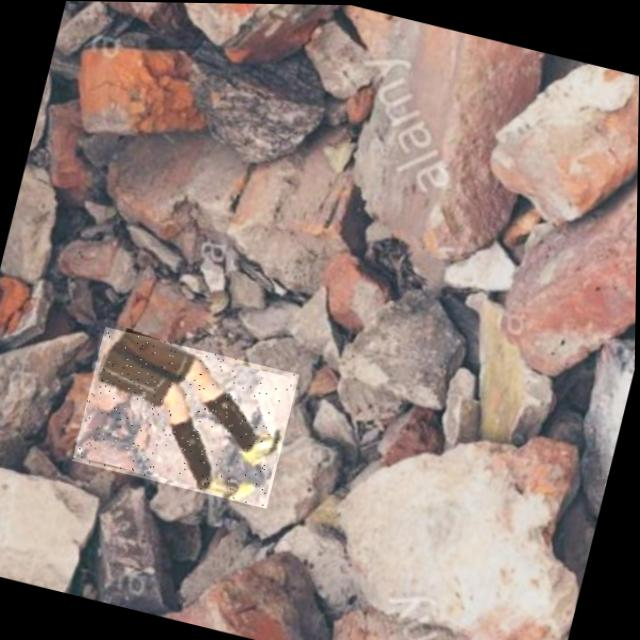Person in Rubble: (73, 325, 301, 507)
